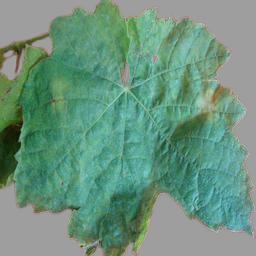Powdery-Mildew: (216, 193, 249, 228)
